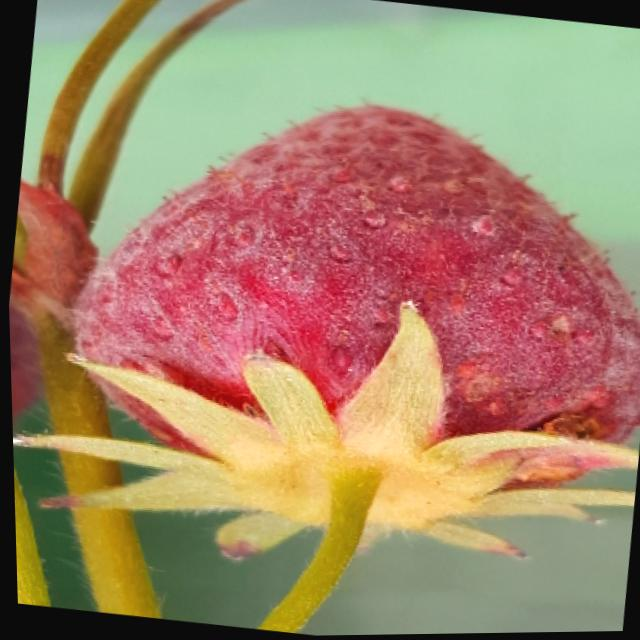Powdery Mildew Fruit: (66, 99, 640, 505)
